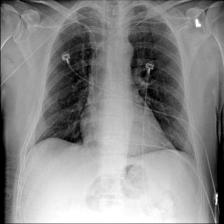normal: (32, 5, 196, 157)
